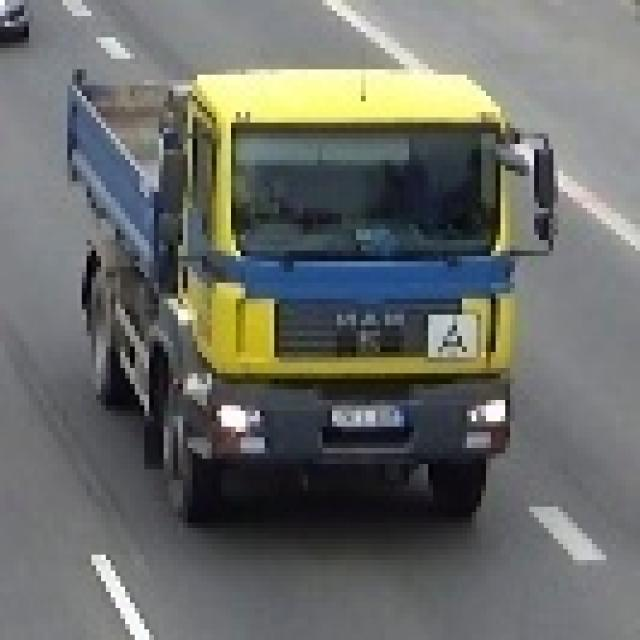truck: (54, 60, 554, 524)
